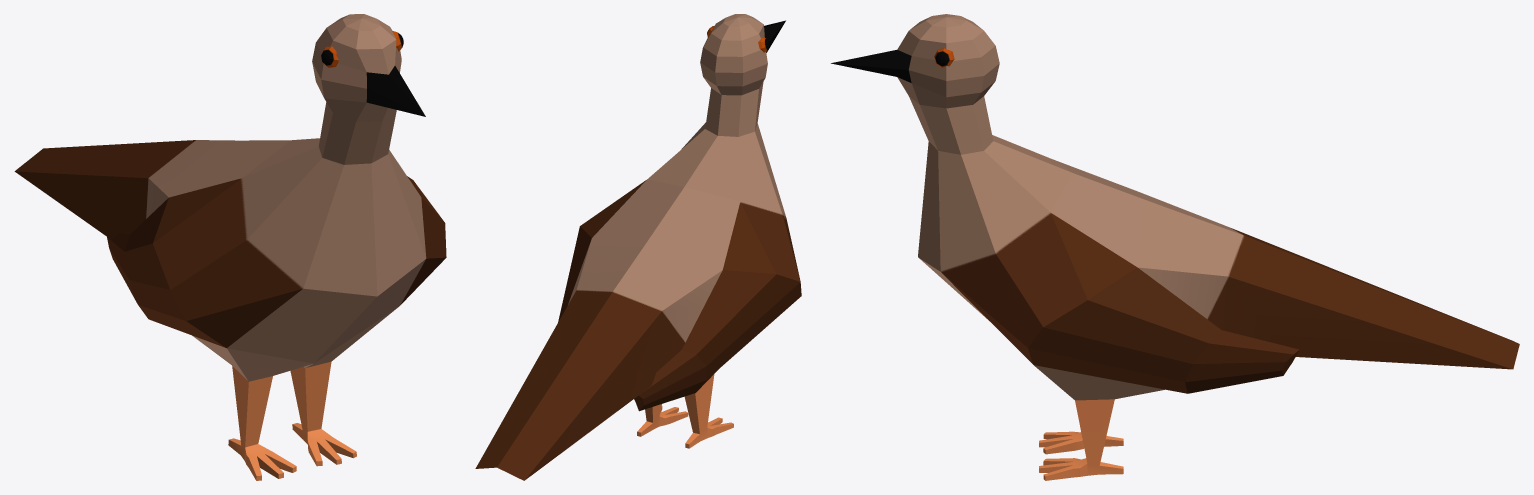
Rendered from passengerPigeon2.gltf.
3 renders of one model, left to right at view 1: azimuth 30°, elevation 25°; view 2: azimuth 150°, elevation 25°; view 3: azimuth 270°, elevation 25°, orthographic. The views are drawn at different scales.
Visible parts, largest first — view 1: pigeon; view 2: pigeon; view 3: pigeon.
Part boxes in pixels (x1,y1,x2,y2): pigeon: (14,14,446,480); pigeon: (475,14,801,480); pigeon: (831,14,1519,480).
Size of the model in its own units: 0.5381 by 0.9171 by 1.3.
Materials: 1 (1 with a texture image).
